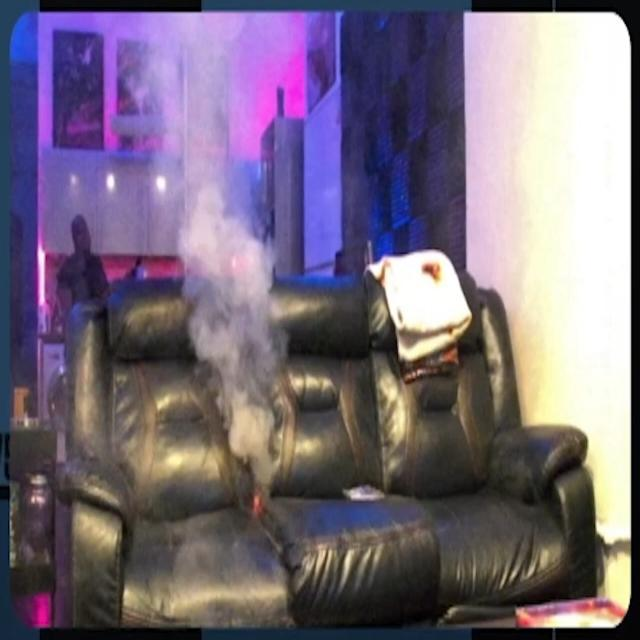Smoke: (180, 198, 290, 468)
